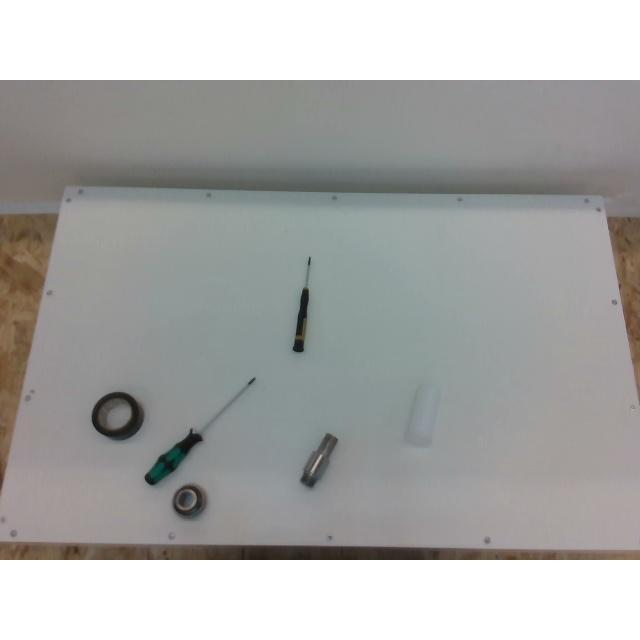Axis2: (300, 433, 336, 487)
Bearing2: (172, 484, 206, 518)
Screwdriver: (144, 376, 256, 484)
Spacer: (404, 383, 440, 445)
